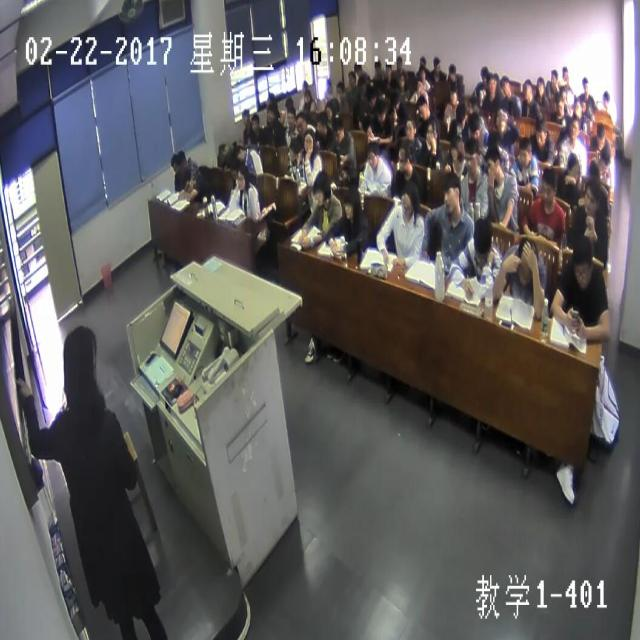person: (60, 326, 100, 402), (571, 241, 591, 287), (516, 241, 536, 283), (472, 223, 490, 264), (442, 180, 460, 213), (401, 186, 417, 218), (584, 180, 600, 212), (446, 141, 464, 167), (484, 148, 499, 178), (466, 144, 479, 178), (540, 172, 554, 203), (314, 174, 328, 204), (396, 143, 411, 170), (566, 151, 578, 183), (599, 143, 612, 170), (536, 119, 548, 148), (488, 133, 505, 153), (344, 194, 357, 220), (425, 122, 439, 145), (403, 115, 416, 138), (288, 137, 300, 161), (519, 142, 531, 166), (182, 171, 195, 193), (366, 144, 378, 167), (469, 116, 481, 139), (588, 156, 599, 181), (595, 122, 606, 147), (333, 120, 345, 142), (236, 167, 248, 188), (523, 78, 533, 102), (303, 133, 314, 154), (475, 80, 485, 103), (454, 106, 465, 126), (570, 118, 580, 140), (572, 98, 584, 116), (489, 72, 498, 95), (500, 74, 510, 94), (177, 150, 188, 168), (218, 140, 229, 158), (234, 142, 245, 160), (316, 113, 325, 135), (496, 108, 507, 126), (296, 110, 305, 130), (376, 102, 386, 120), (555, 94, 564, 114), (170, 154, 179, 173), (448, 84, 457, 103), (479, 61, 488, 80), (346, 68, 356, 85), (448, 63, 457, 81), (418, 96, 427, 114), (241, 108, 250, 125), (266, 88, 275, 105), (286, 108, 295, 125), (353, 103, 363, 118), (266, 104, 274, 122), (325, 101, 334, 117), (353, 58, 362, 74), (250, 114, 258, 131), (467, 98, 475, 115), (550, 67, 558, 84), (536, 76, 543, 95), (580, 95, 587, 114), (367, 90, 375, 106), (358, 76, 366, 92), (398, 71, 406, 87), (434, 56, 442, 72), (561, 65, 569, 81), (602, 90, 610, 106), (581, 76, 589, 92), (303, 89, 311, 103), (392, 94, 399, 110), (559, 85, 566, 100), (384, 61, 392, 74), (284, 94, 291, 108), (300, 78, 308, 90), (416, 76, 422, 92), (228, 163, 236, 174), (325, 76, 331, 90), (336, 80, 342, 94), (396, 54, 402, 66), (419, 68, 426, 78), (374, 59, 380, 70), (420, 55, 425, 67)
